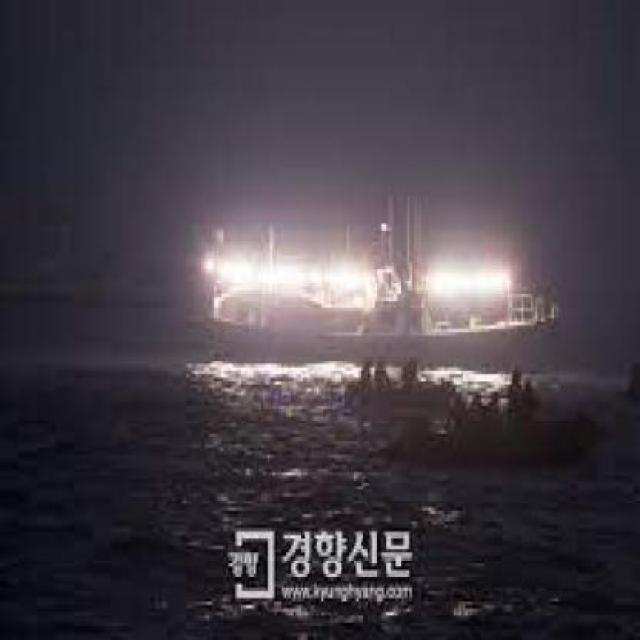fish-b: (185, 179, 566, 379)
